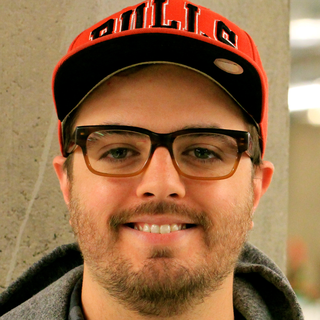eye: (173, 140, 231, 165), (94, 142, 142, 166)
